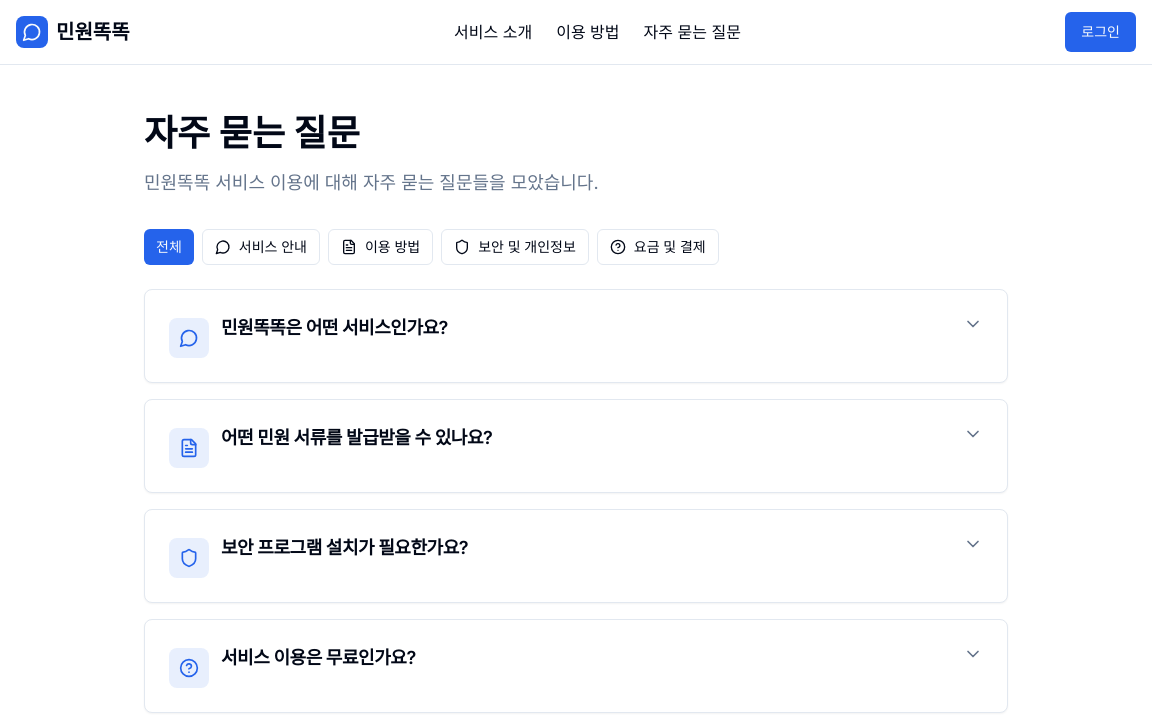
it: FaqPage › 여러 FAQ 항목을 동시에 열 수 있어야 함
Click the heading "민원똑똑은 어떤 서비스인가요?" at point(334, 328), box [221,314,448,342]
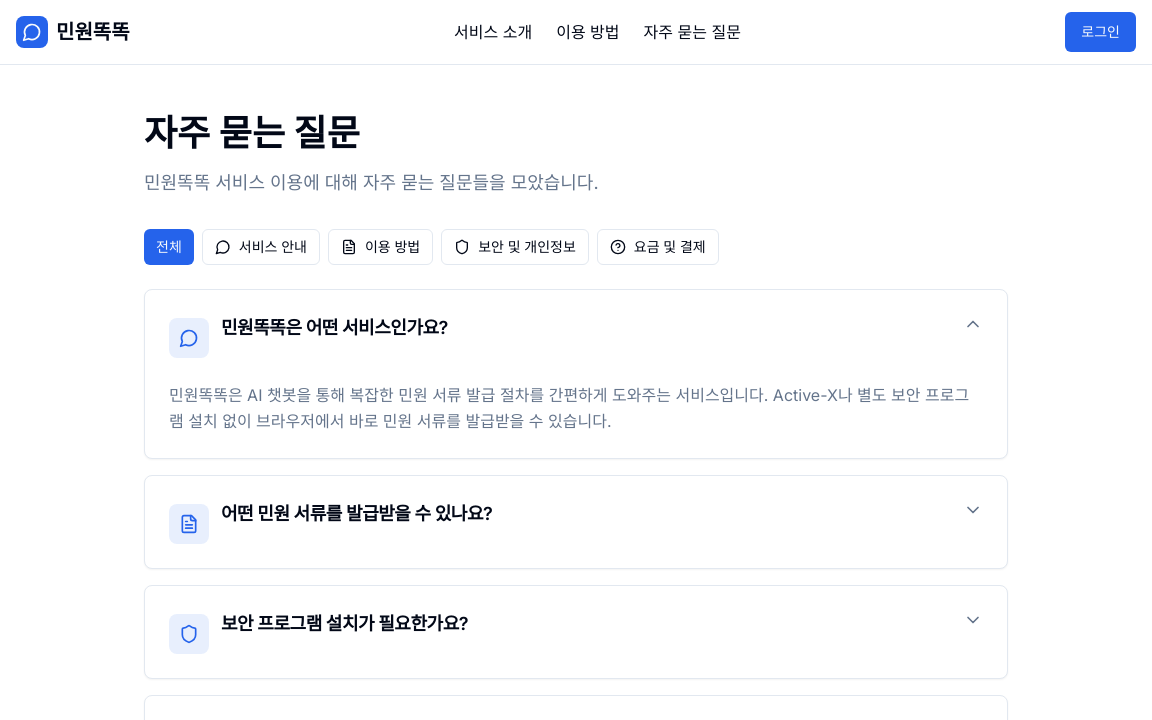
Click the heading "어떤 민원 서류를 발급받을 수 있나요?" at point(357, 514), box [221,500,492,528]
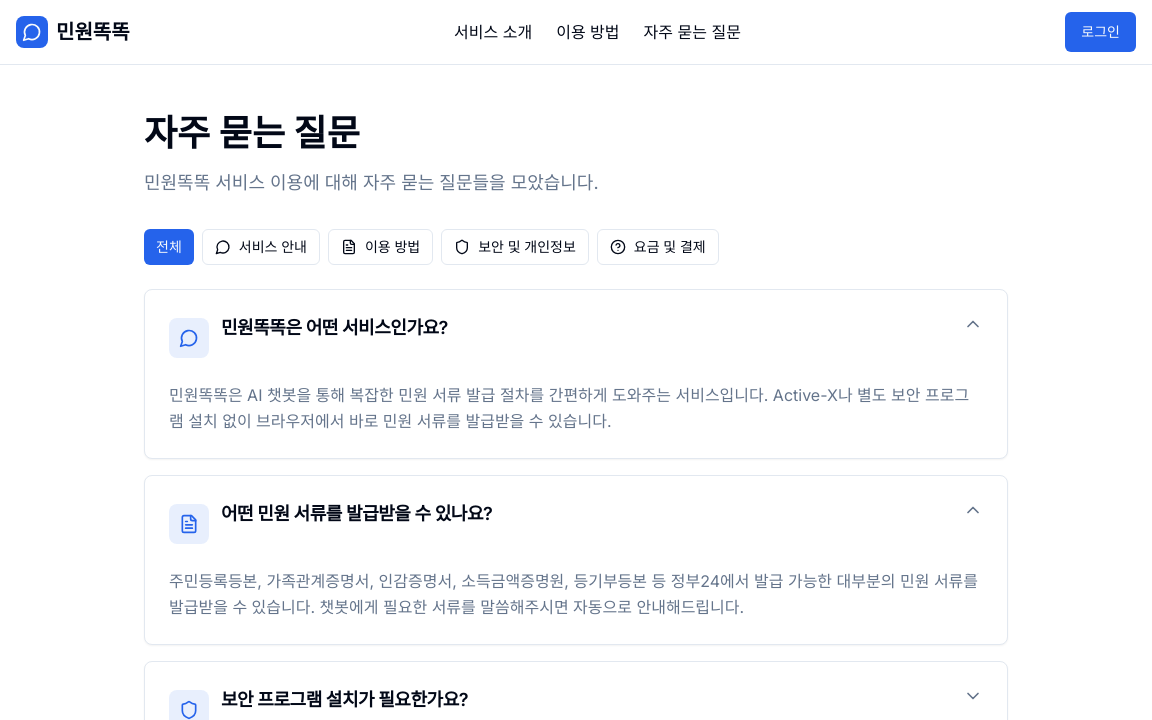
Now the text "AI 챗봇을 통해 복잡한 민원 서류 발급" is shown, box [169,385,969,431]
Now the text "주민등록등본, 가족관계증명서" is shown, box [169,571,978,617]
